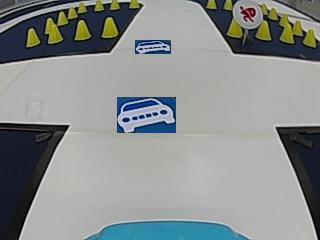thief: (232, 0, 263, 28)
